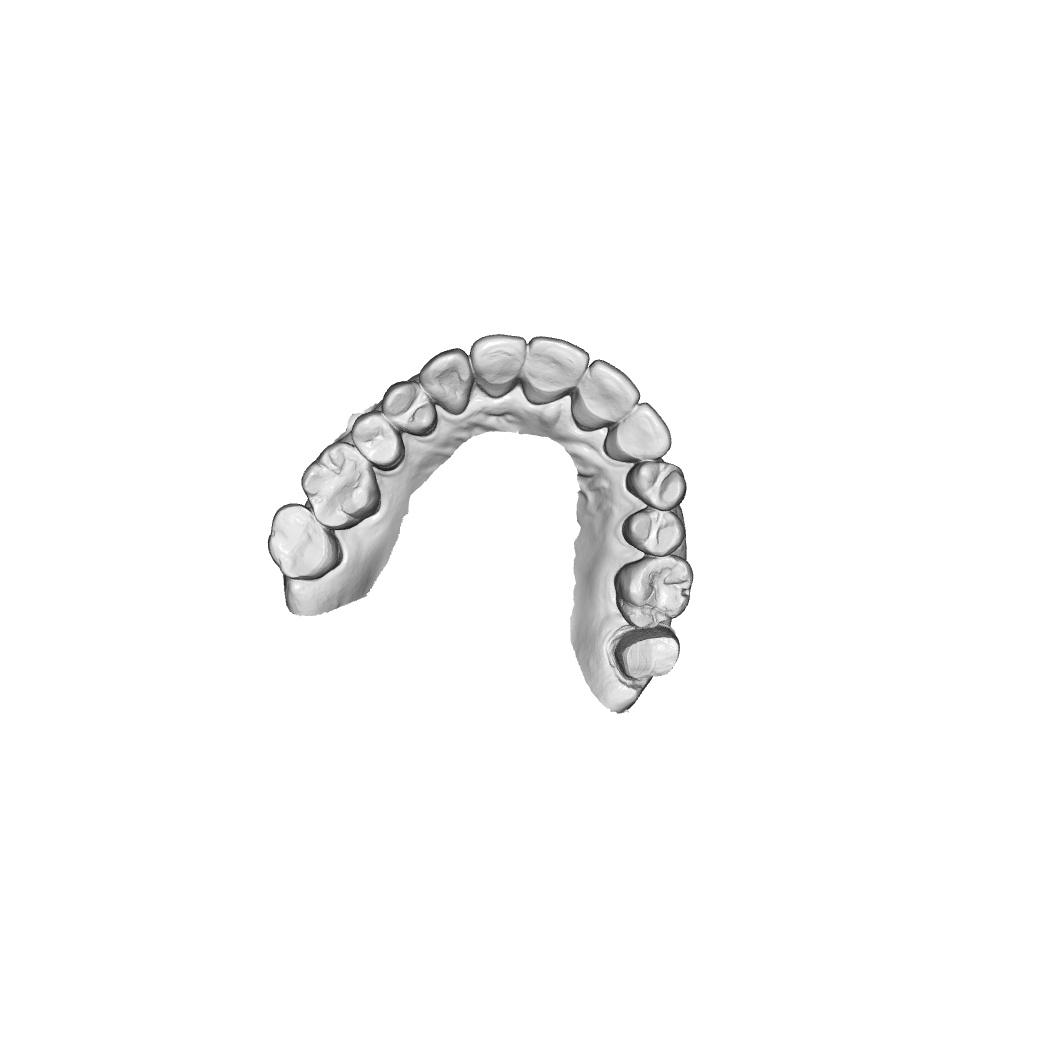canine: (417, 345, 475, 417)
crown: (612, 625, 685, 684)
incisor: (566, 357, 643, 434), (522, 334, 589, 406), (602, 400, 673, 466), (468, 331, 528, 400)
molar: (291, 441, 383, 530), (612, 554, 695, 633), (265, 503, 346, 583)
premolar: (379, 378, 439, 438), (619, 507, 689, 557), (350, 410, 406, 472), (625, 460, 689, 512)
